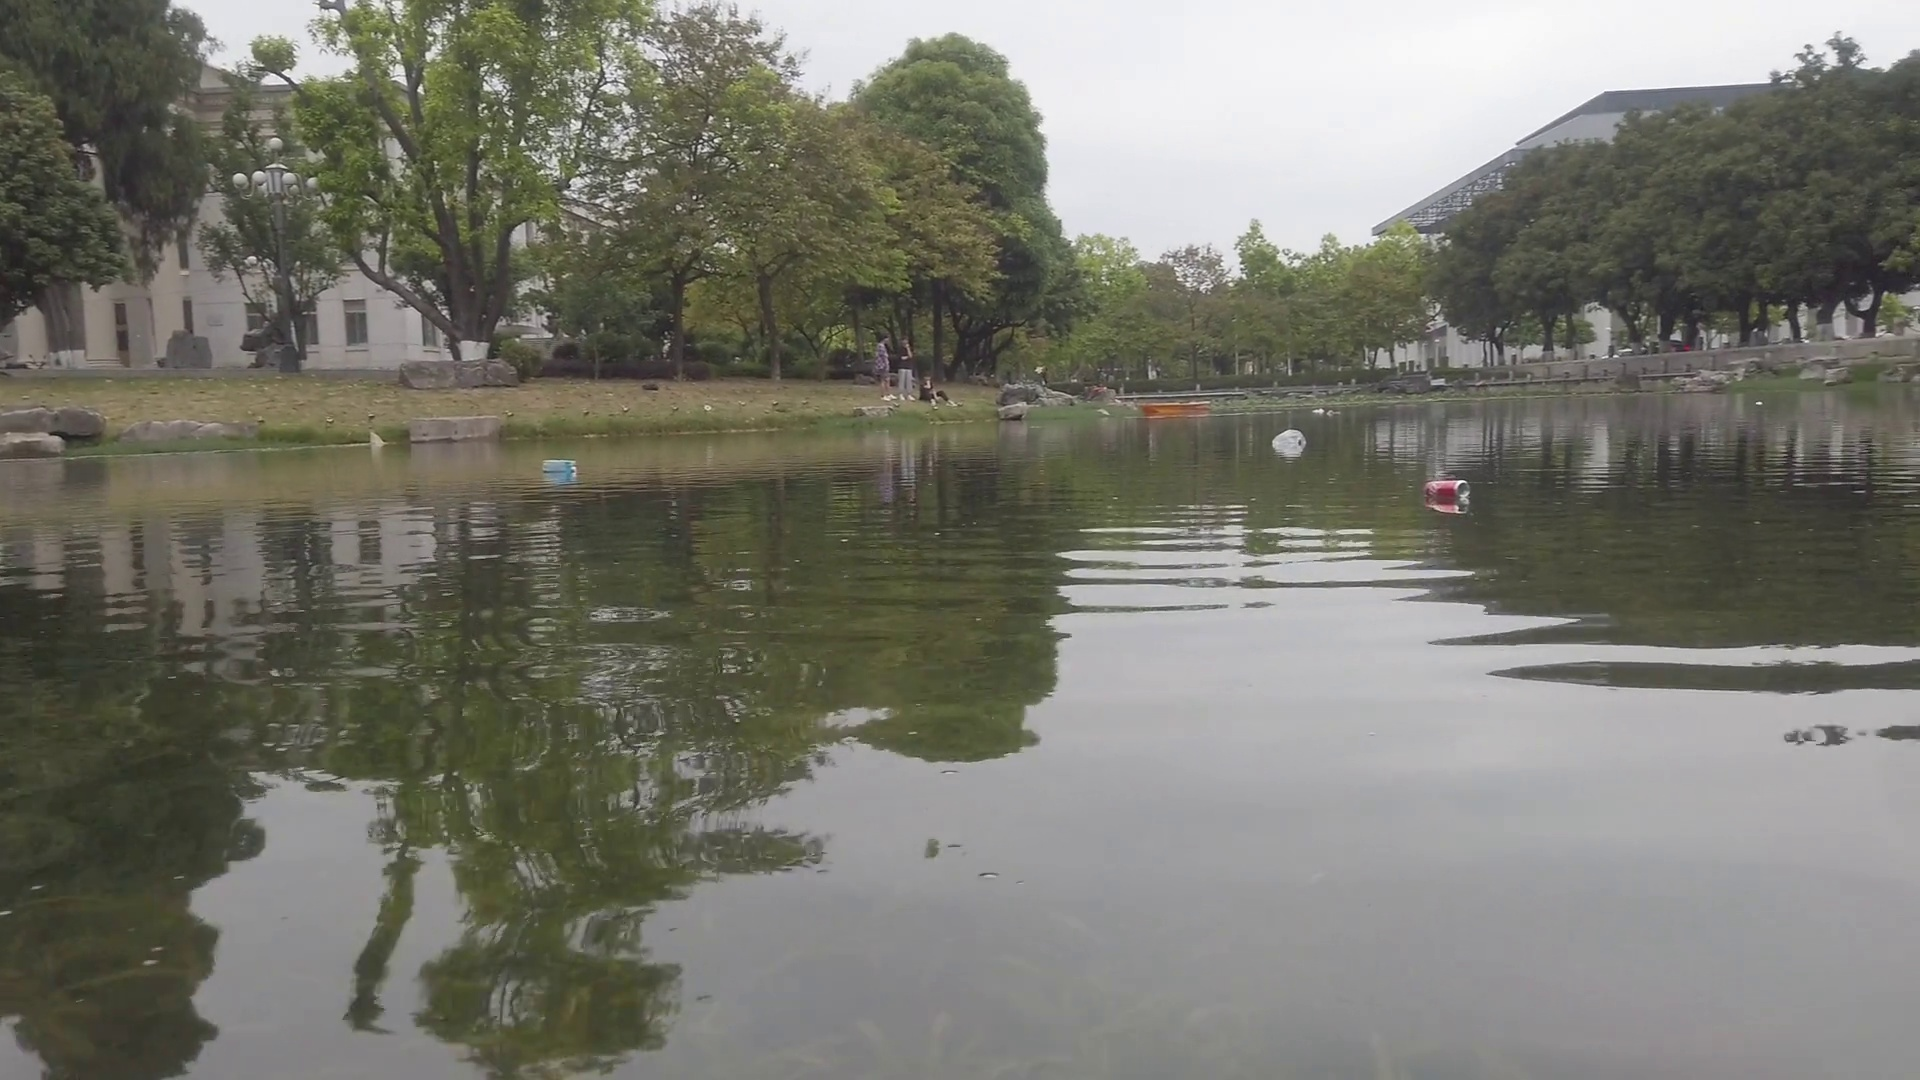bottle: (1425, 480, 1473, 498)
carton: (542, 458, 578, 473)
paper: (1751, 398, 1768, 409)
plastic: (1273, 429, 1305, 446), (1308, 407, 1324, 414)
